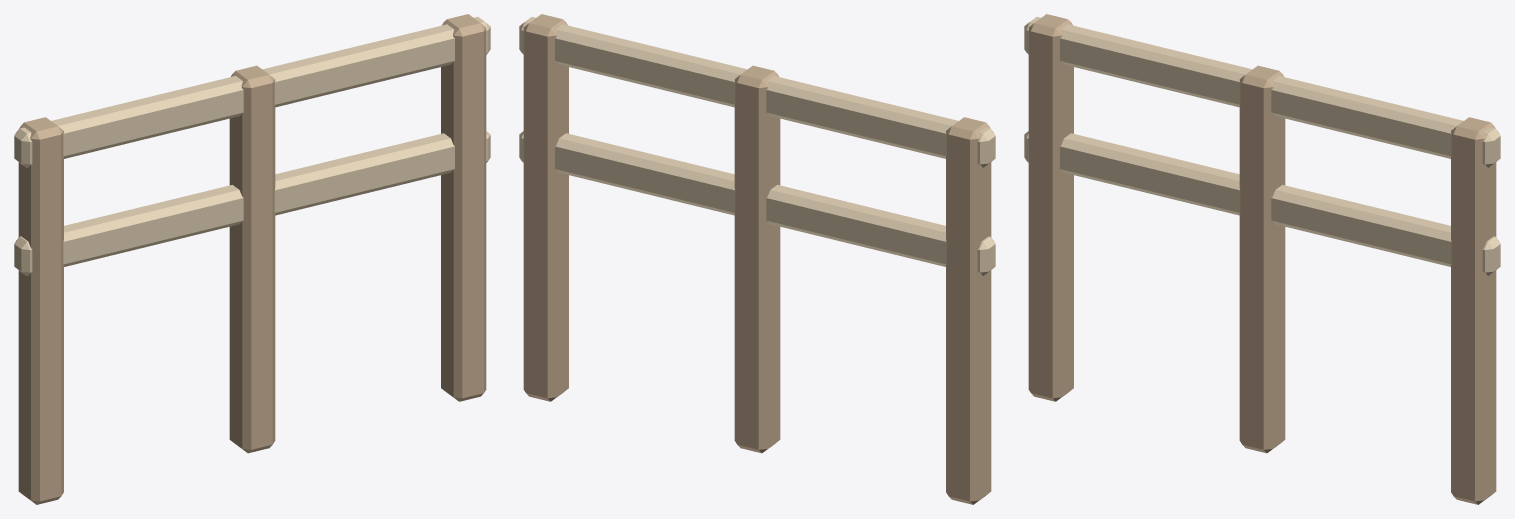
Rendered from fence.glb.
3 views of the same model, side by side, from view 1: azimuth 30°, elevation 25°; view 2: azimuth 150°, elevation 25°; view 3: azimuth 330°, elevation 25° (orthographic).
Visible parts, largest first — view 1: post.001, post, post.002, rail2, rail1; view 2: post.001, post, post.002, rail2, rail1; view 3: post.001, post.002, post, rail2, rail1.
Boxes of the visible parts, box(x1,y1,x2,y2) form: post.001: box(229, 65, 275, 453); post: box(18, 117, 63, 504); post.002: box(441, 14, 486, 401); rail2: box(14, 17, 490, 167); rail1: box(14, 131, 490, 275); post.001: box(734, 65, 780, 453); post: box(946, 117, 991, 504); post.002: box(523, 14, 568, 401); rail2: box(519, 17, 995, 167); rail1: box(519, 131, 995, 275); post.001: box(1239, 65, 1285, 453); post.002: box(1451, 117, 1496, 504); post: box(1028, 14, 1073, 401); rail2: box(1024, 17, 1500, 167); rail1: box(1024, 131, 1500, 275).
Bounding box in the file's own units: 1 × 0.76 × 0.07.
